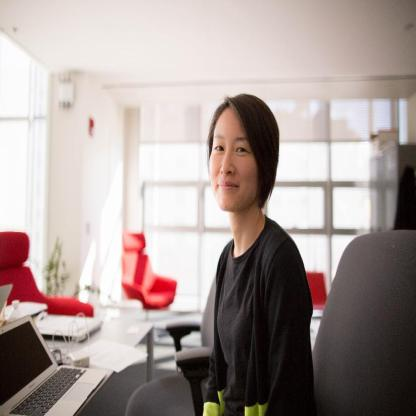board: (13, 315, 100, 410), (0, 286, 12, 313)
